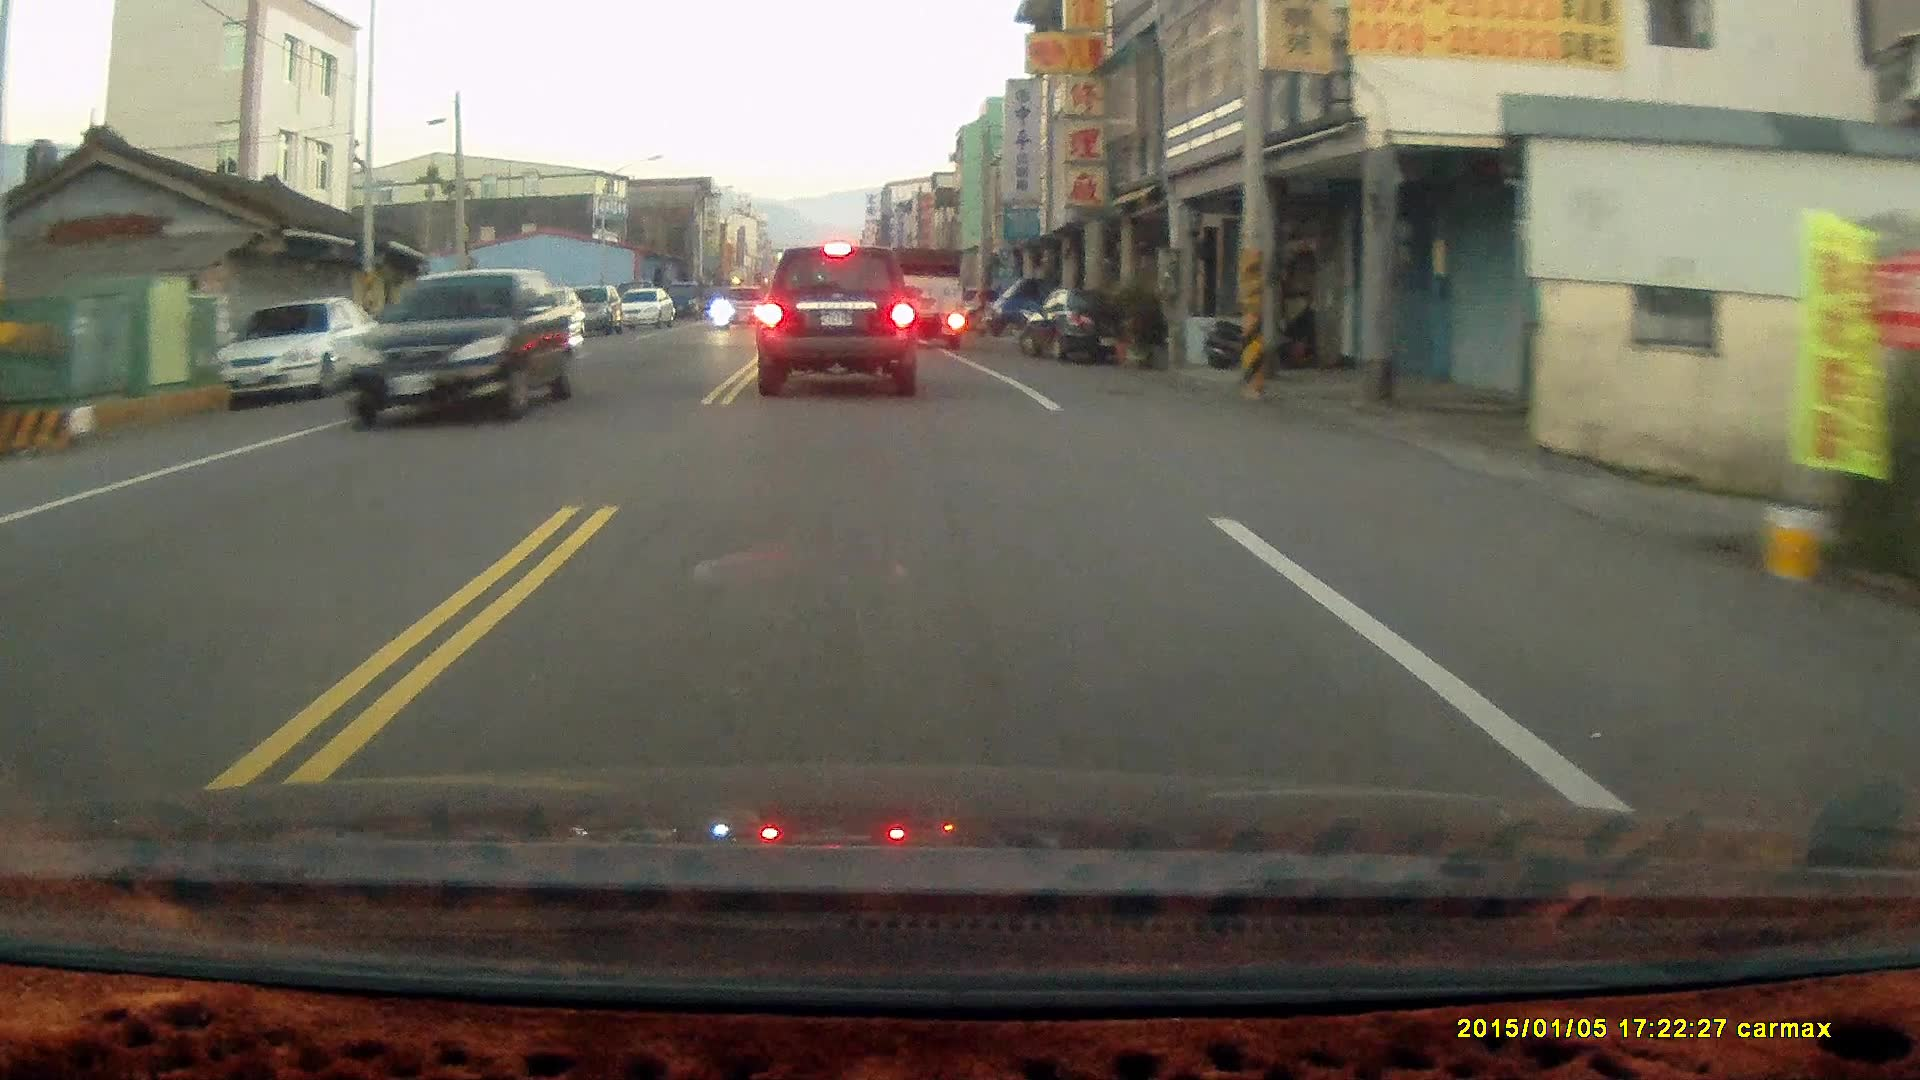vehicle: (343, 268, 574, 429), (754, 247, 920, 404), (218, 297, 385, 404), (1026, 293, 1151, 371), (886, 255, 969, 360), (554, 286, 625, 338), (709, 287, 778, 334), (615, 287, 676, 332)
